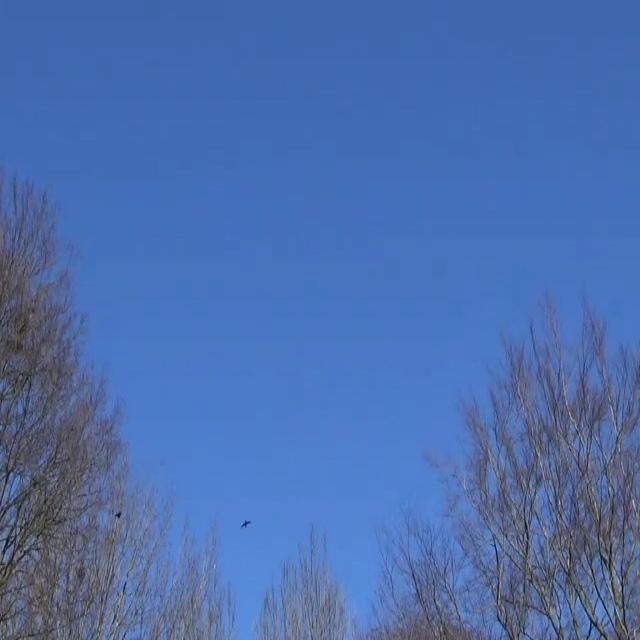bird: (239, 510, 253, 538)
